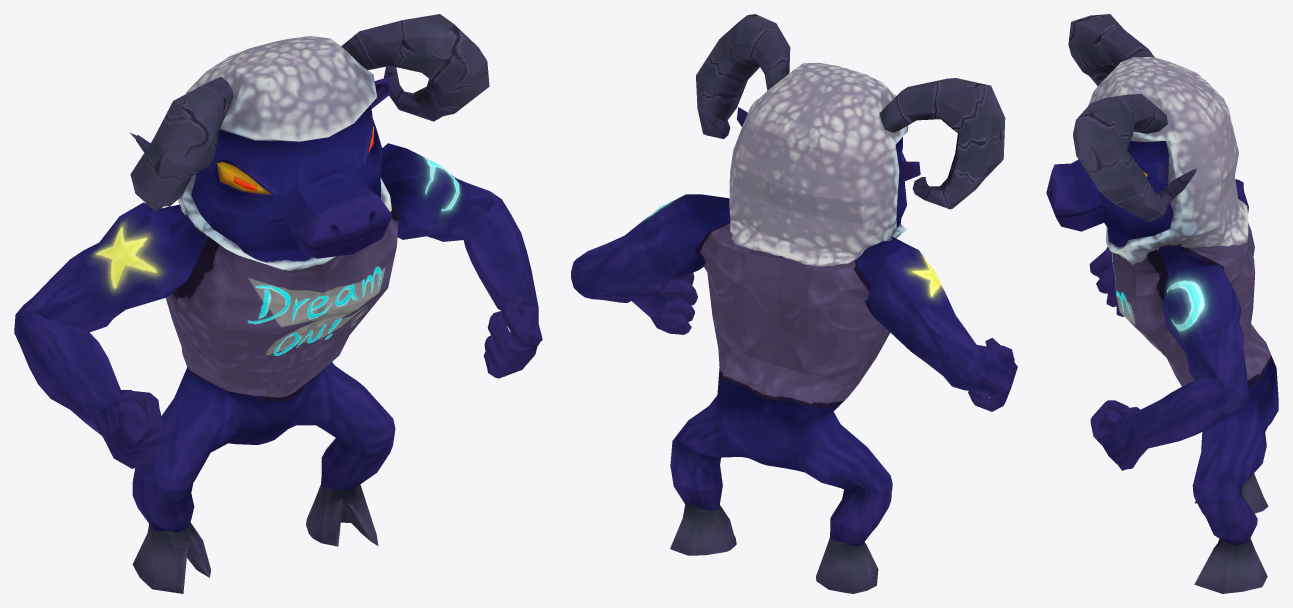
File: Charger_0.glb
3 views of the same model, side by side, from view 1: azimuth 30°, elevation 25°; view 2: azimuth 150°, elevation 25°; view 3: azimuth 270°, elevation 25° (orthographic). The views are drawn at different scales.
Parts seen in each view (by area): view 1: Charger_0 Model; view 2: Charger_0 Model; view 3: Charger_0 Model.
Boxes of the visible parts, x1,y1,x2,y2 form: Charger_0 Model: (14, 14, 542, 593); Charger_0 Model: (571, 14, 1017, 593); Charger_0 Model: (1046, 14, 1278, 593).
Size of the model in its own units: 1.66 by 1.83 by 0.7944.
Materials: 1 (1 with a texture image).
